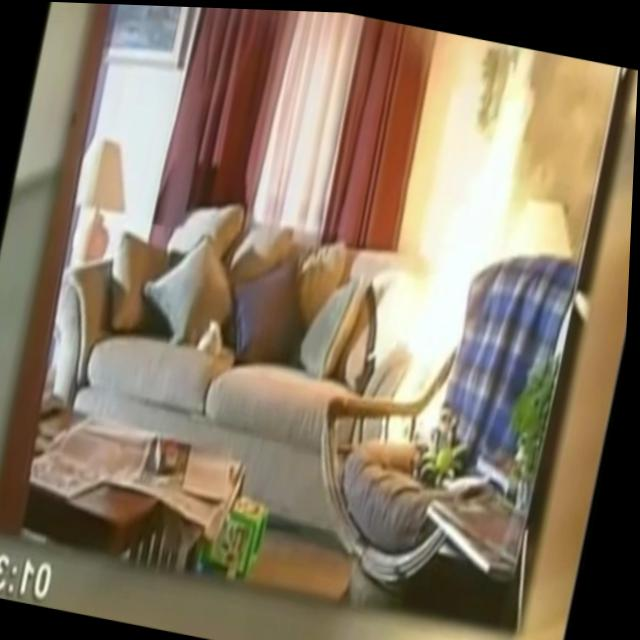fire: (376, 59, 539, 449)
